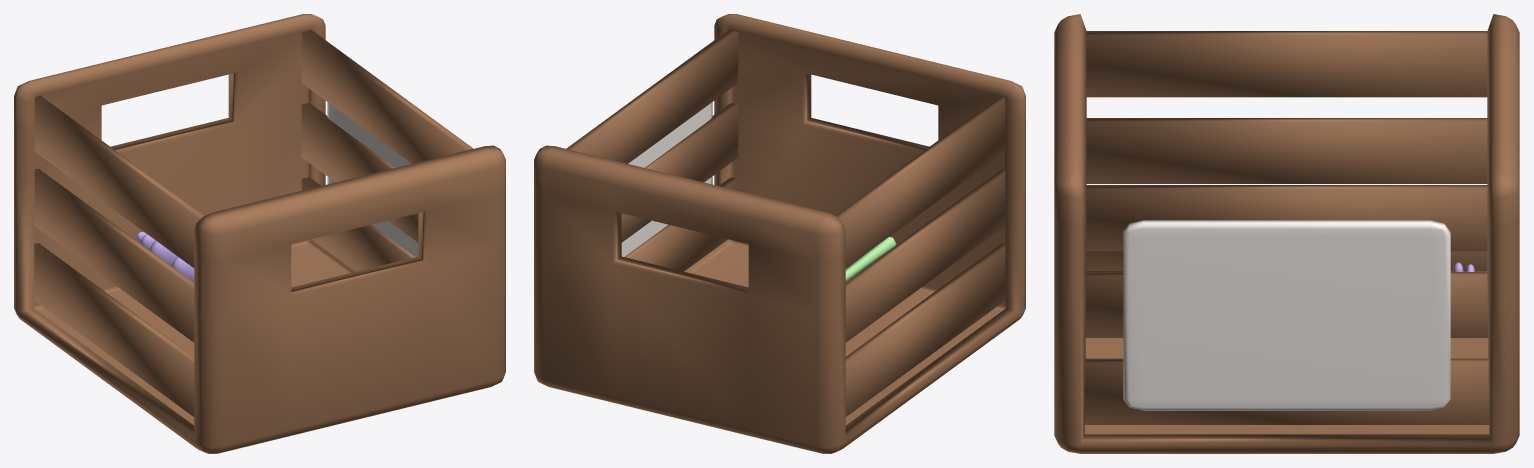
The model's file is CajaSola.fbx.
3 views of the same model, side by side, from view 1: azimuth 30°, elevation 25°; view 2: azimuth 150°, elevation 25°; view 3: azimuth 270°, elevation 25° (orthographic). The views are drawn at different scales.
Parts seen in each view (by area): view 1: Cube; view 2: Cube; view 3: Cube.
Part boxes in pixels (<box>): Cube: <box>14,14,505,453</box>; Cube: <box>534,14,1025,453</box>; Cube: <box>1054,14,1519,453</box>.
Size of the model in its own units: 161 by 119 by 180.
